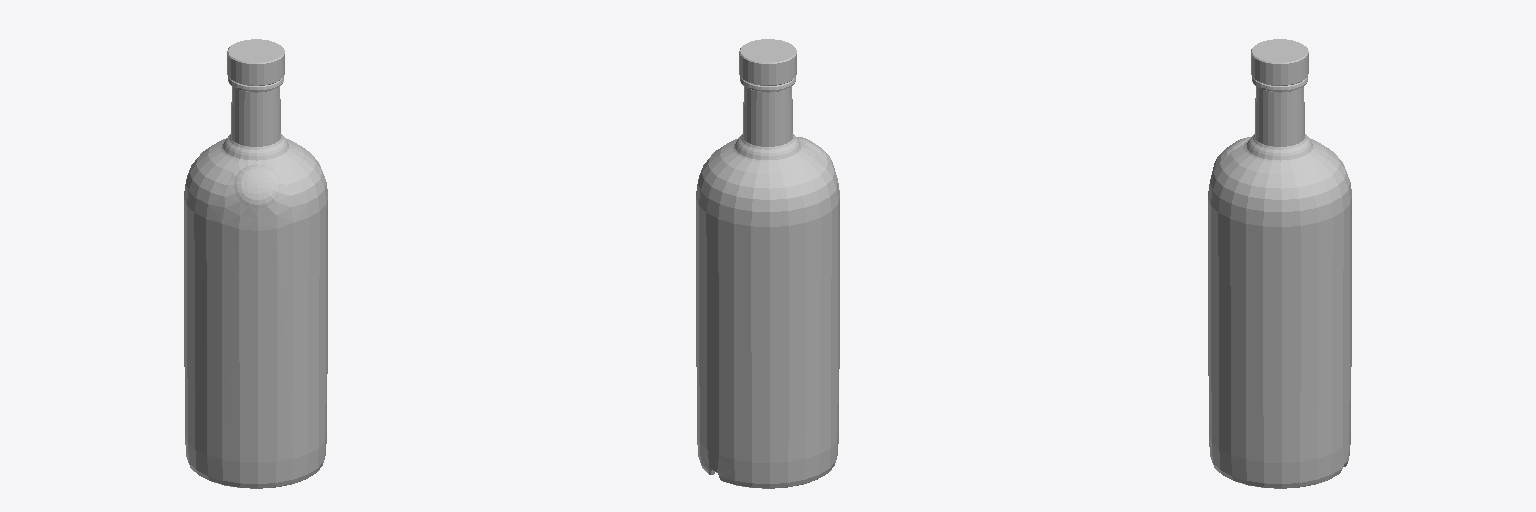
The model's file is absolut_bottle.obj.
3 views of the same model, side by side, from view 1: azimuth 30°, elevation 25°; view 2: azimuth 150°, elevation 25°; view 3: azimuth 270°, elevation 25° (orthographic).
Parts seen in each view (by area): view 1: bottle_Lp_Mesh.002, lid_Lp_Mesh.003; view 2: bottle_Lp_Mesh.002, lid_Lp_Mesh.003; view 3: bottle_Lp_Mesh.002, lid_Lp_Mesh.003.
Part boxes in pixels (bbox=[...]): bottle_Lp_Mesh.002: bbox=[184, 77, 327, 488]; lid_Lp_Mesh.003: bbox=[227, 39, 284, 85]; bottle_Lp_Mesh.002: bbox=[696, 77, 839, 488]; lid_Lp_Mesh.003: bbox=[739, 39, 796, 85]; bottle_Lp_Mesh.002: bbox=[1208, 77, 1351, 488]; lid_Lp_Mesh.003: bbox=[1251, 39, 1308, 85].
Size of the model in its own units: 0.1668 by 0.5213 by 0.1667.